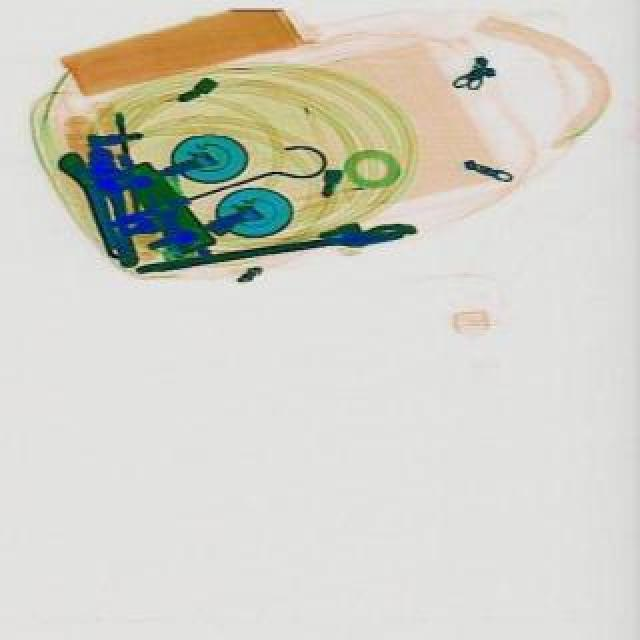scissors: (138, 220, 422, 284), (58, 146, 138, 270)
